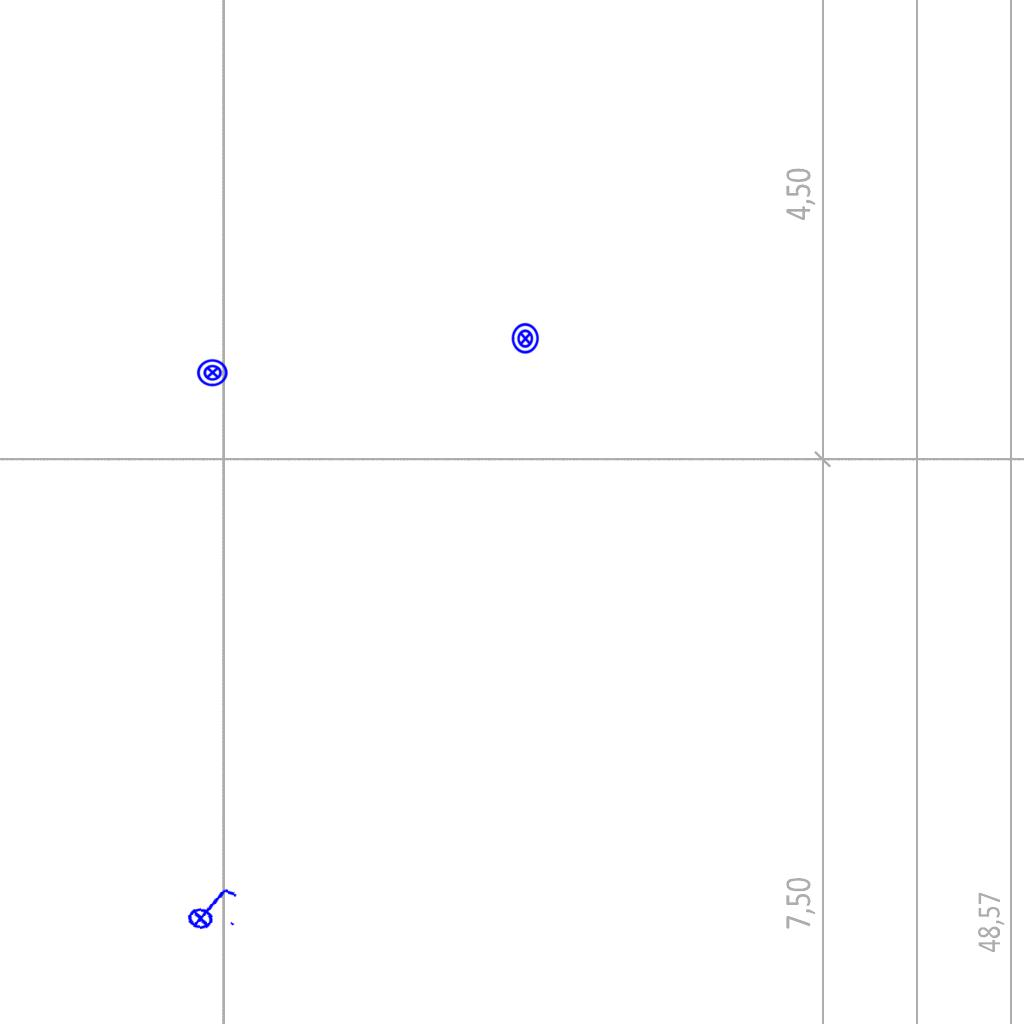Ausschalter_beleuchtet: (179, 878, 243, 936)
Taster_beleuchtet: (196, 356, 229, 389), (509, 322, 542, 355)
